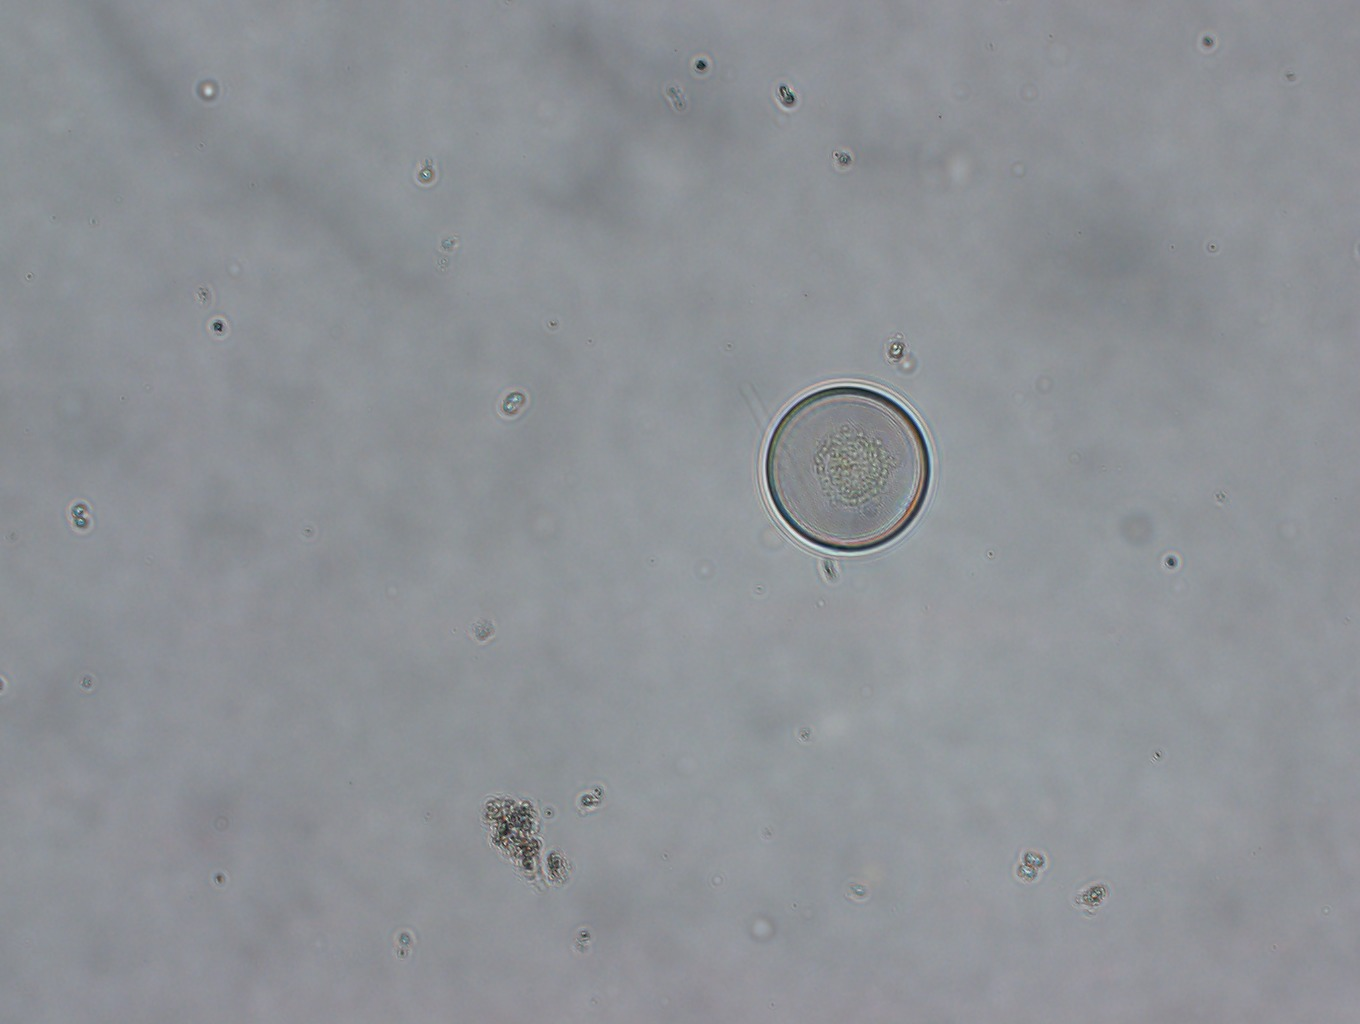coscinodiscus: (756, 373, 939, 563)
